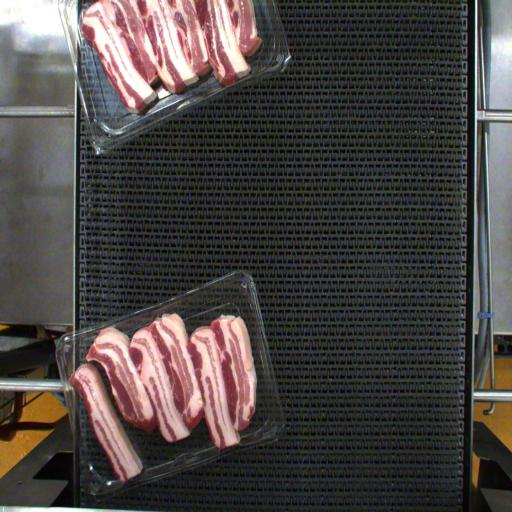loose-meat: (76, 366, 117, 480)
packaging-error: (215, 437, 244, 463), (94, 320, 120, 336)
